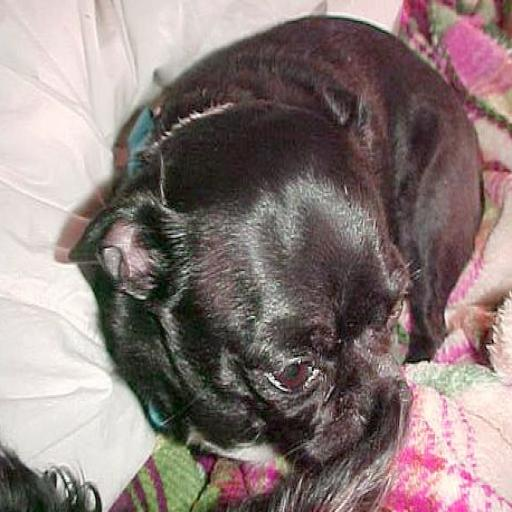dog_face: (93, 106, 426, 464)
